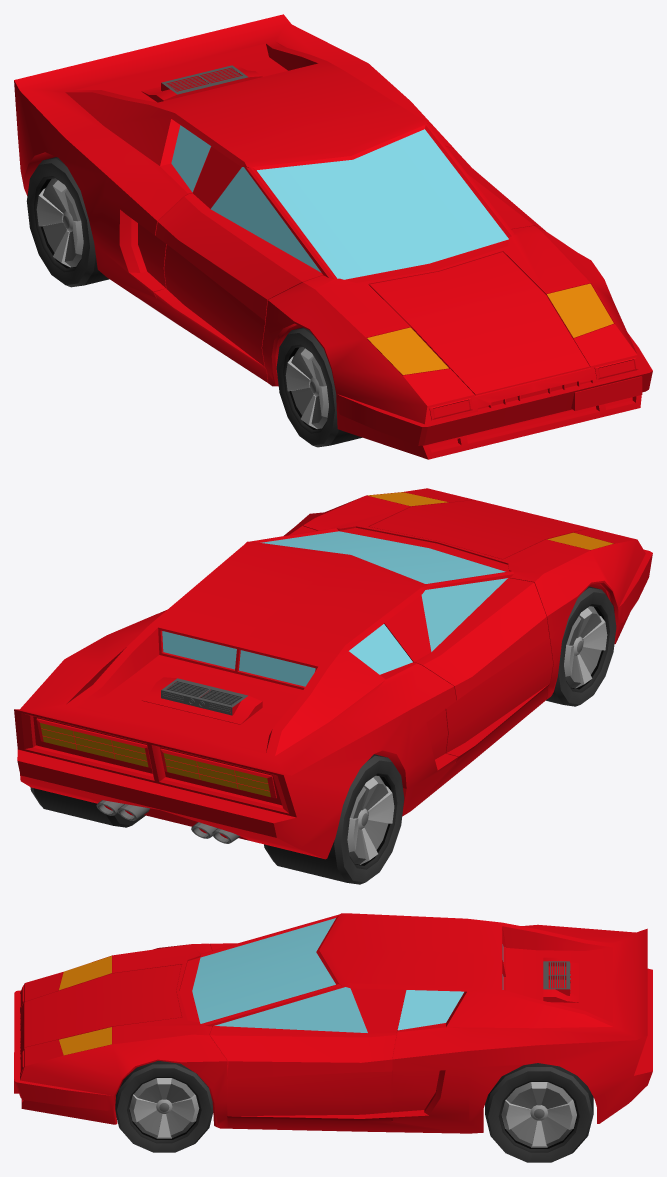
File: sporcar.fbx
3 views of the same model, one above another, from view 1: azimuth 30°, elevation 25°; view 2: azimuth 150°, elevation 25°; view 3: azimuth 270°, elevation 25° (orthographic). The views are drawn at different scales.
Parts seen in each view (by area): view 1: onlastik, onlastik.002; view 2: onlastik, onlastik.002; view 3: onlastik, onlastik.001.
Boxes of the visible parts, left/top/right/bottom form: onlastik: left=14, top=14, right=652, bottom=459; onlastik.002: left=276, top=327, right=362, bottom=447; onlastik: left=14, top=488, right=652, bottom=884; onlastik.002: left=546, top=586, right=616, bottom=706; onlastik: left=14, top=913, right=652, bottom=1162; onlastik.001: left=115, top=1061, right=213, bottom=1152.
Bounding box in the file's own units: 444 × 255 × 956.
